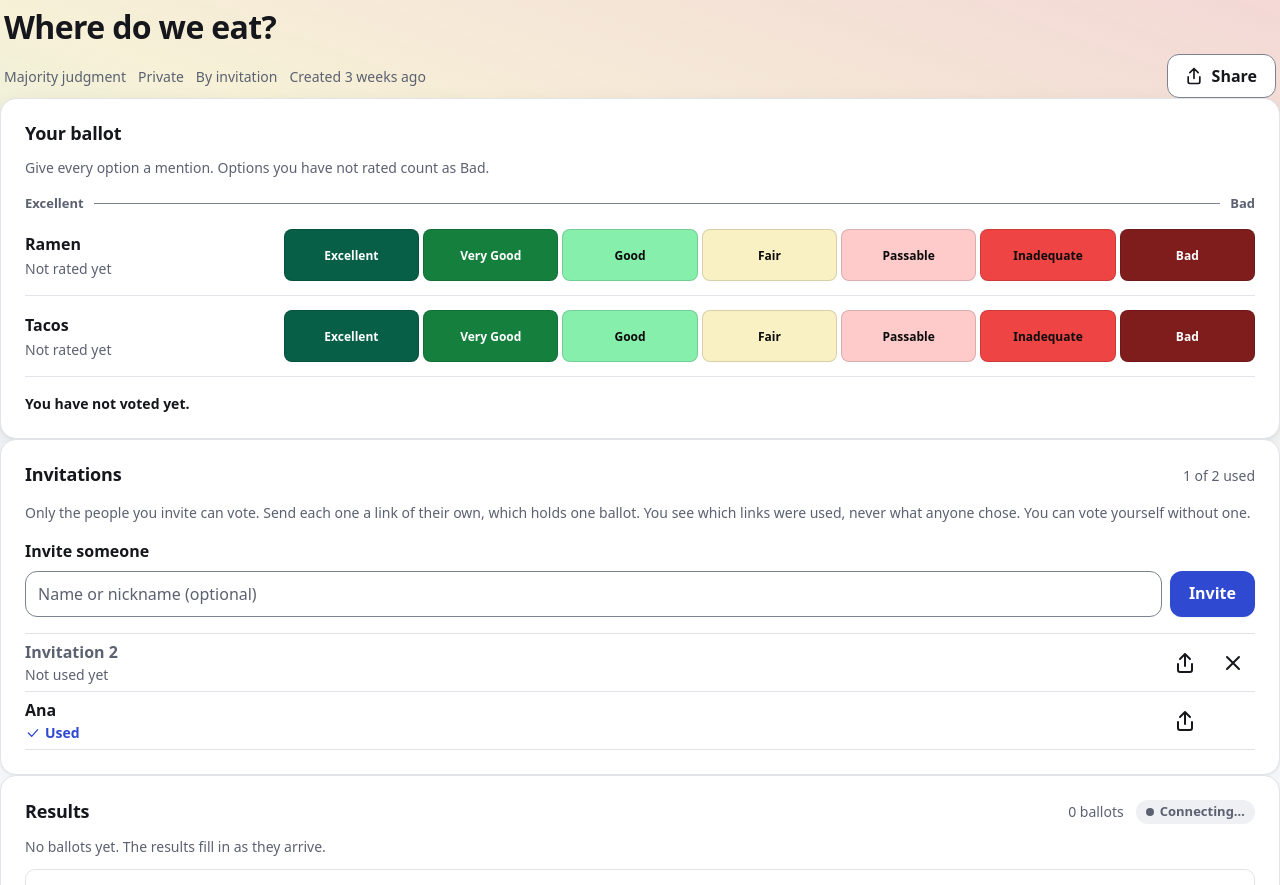
Test: a poll's invitations › can be anonymous, known by their number
Check: the text "Ana" is shown, box [25,699,56,721]
Click the button "Invite" at (1212, 594), box [1170,571,1255,617]
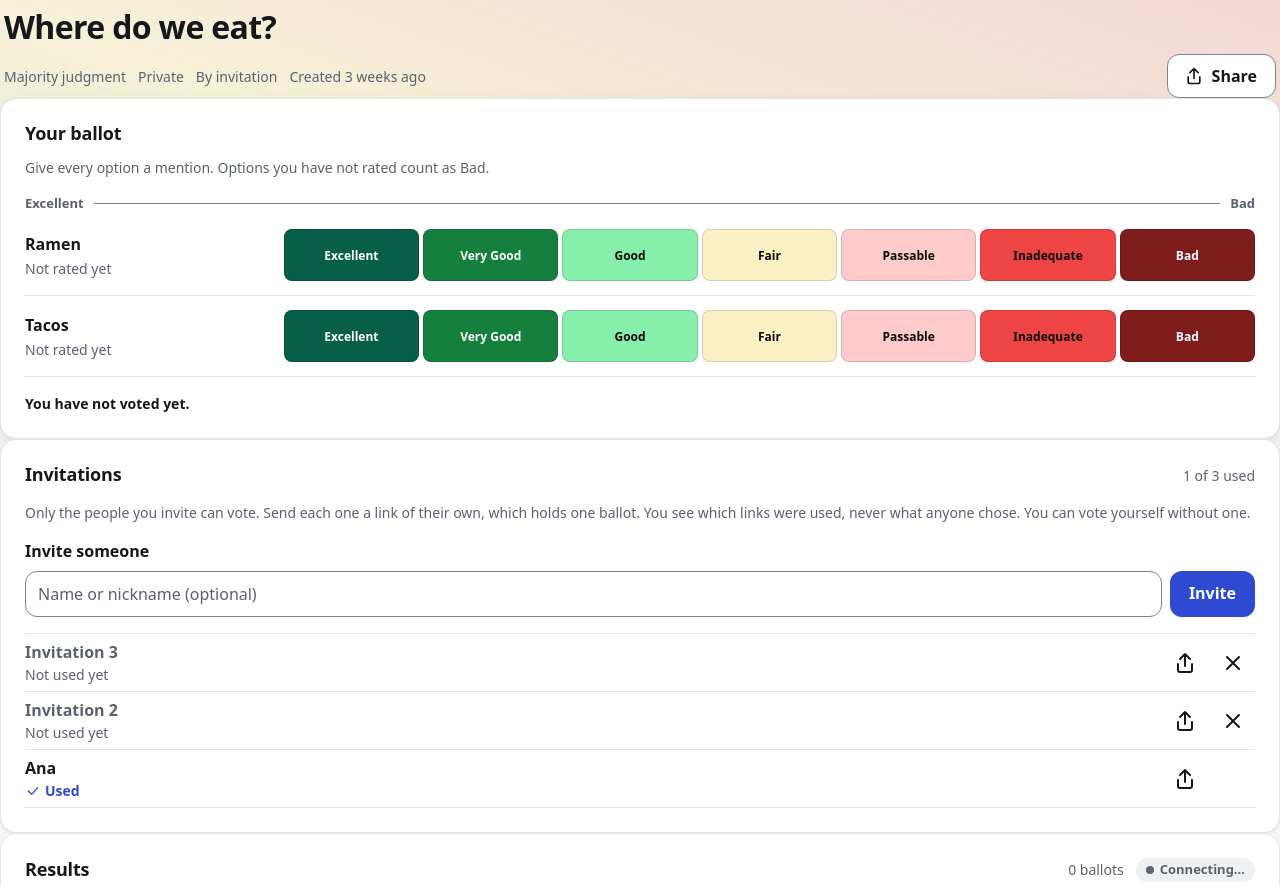
Check: the text "Invitation 3" is shown, box [25,641,118,663]
